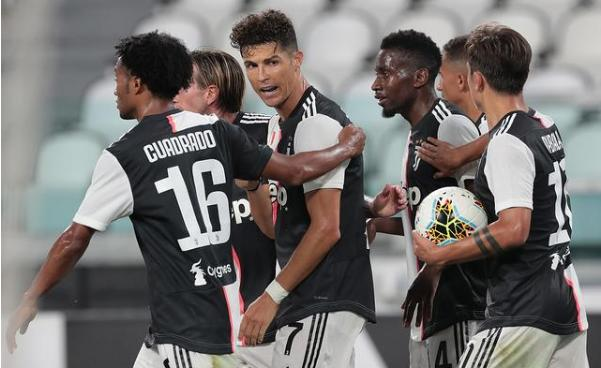ball: (415, 186, 488, 258)
